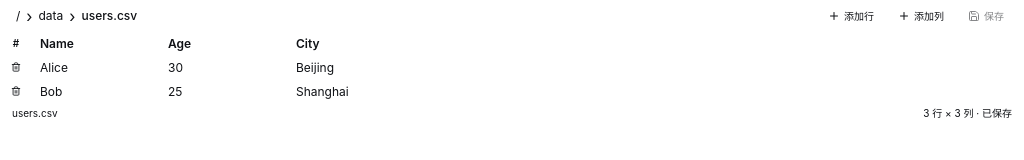
Test: CsvEditor › shows modified indicator after editing a cell
Expected: the text "● 已修改" is not shown
Edit a cell
Replace the text in the 4th field showing "Alice" with "Alicia" at (96, 68), box [32,56,160,80]
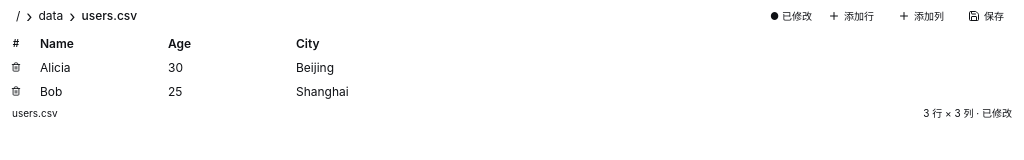
Result: the text "● 已修改" is shown at [770,8,812,24]
